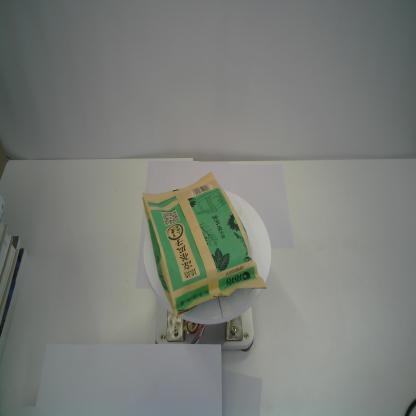Dried Food: (141, 170, 267, 318)
